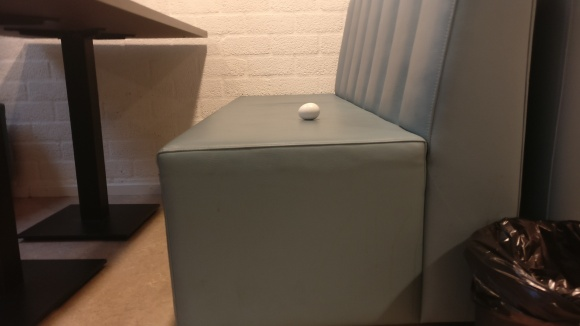egg: (297, 101, 320, 120)
